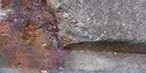Corrosion: (1, 1, 72, 73)
